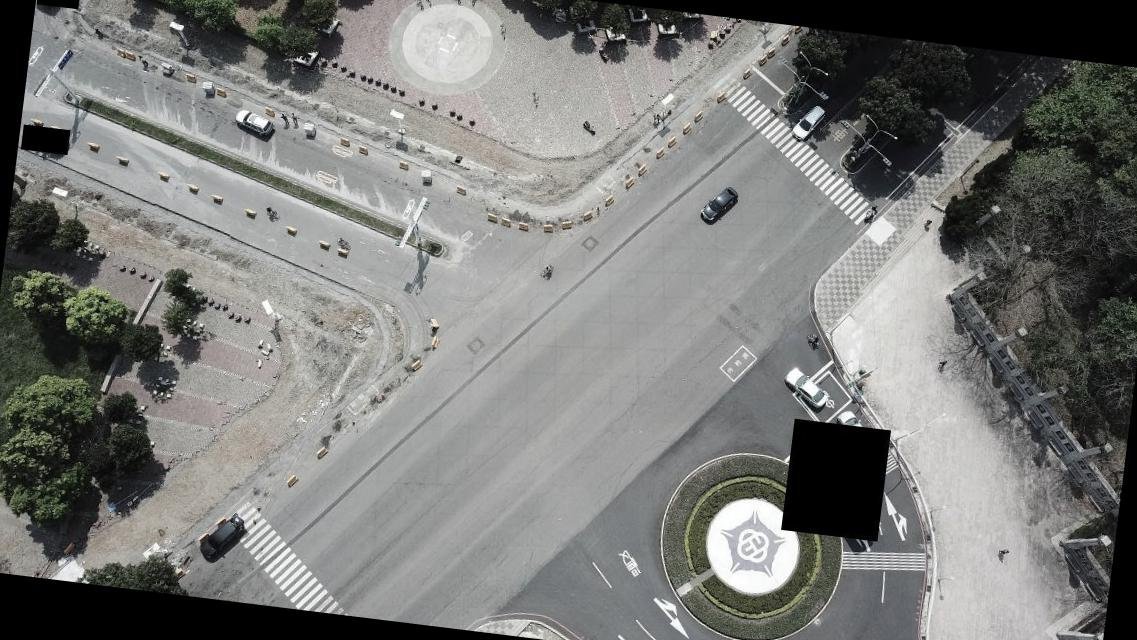vehicle: (197, 512, 244, 564), (780, 367, 830, 409), (832, 408, 875, 454), (698, 184, 738, 226), (789, 101, 825, 142), (233, 108, 274, 138)
